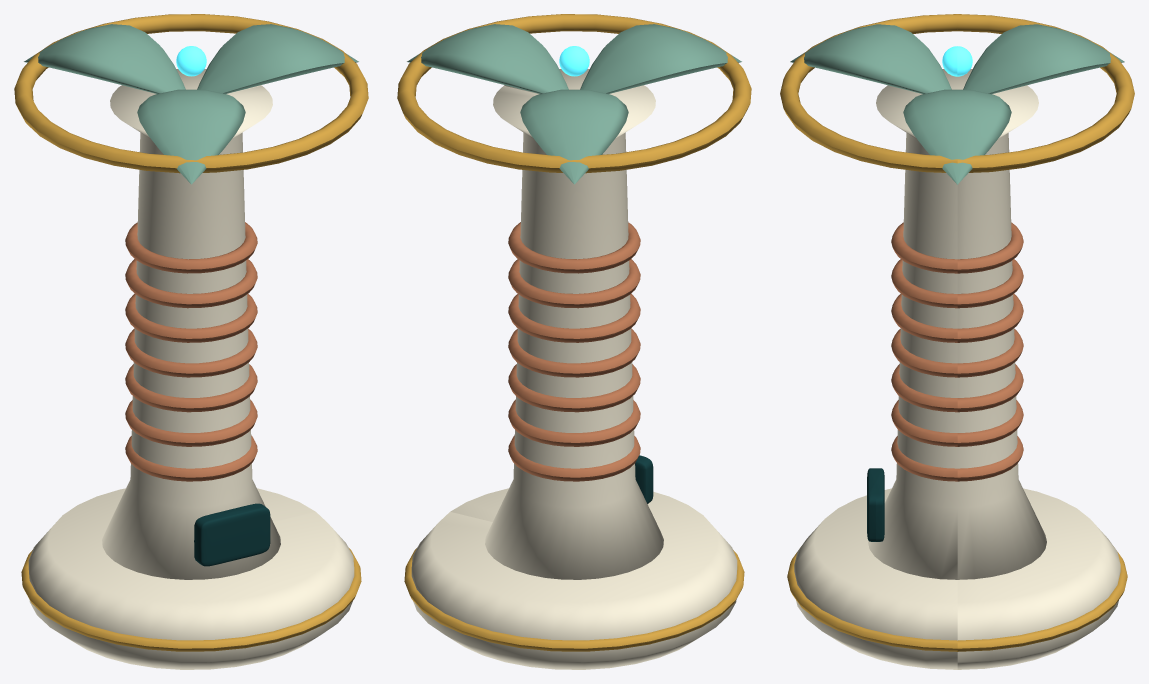
The model's file is relay.glb.
3 views of the same model, side by side, from view 1: azimuth 30°, elevation 25°; view 2: azimuth 150°, elevation 25°; view 3: azimuth 270°, elevation 25° (orthographic).
Visible parts, largest first — view 1: relay, relay-vanes, status-light; view 2: relay, relay-vanes, status-light; view 3: relay, relay-vanes, status-light.
Boxes of the visible parts, left/top/right/bottom form: relay: left=14, top=14, right=368, bottom=669; relay-vanes: left=24, top=24, right=358, bottom=184; status-light: left=176, top=46, right=206, bottom=76; relay: left=397, top=14, right=751, bottom=669; relay-vanes: left=407, top=24, right=741, bottom=184; status-light: left=559, top=46, right=589, bottom=76; relay: left=780, top=14, right=1134, bottom=669; relay-vanes: left=790, top=24, right=1124, bottom=184; status-light: left=942, top=46, right=972, bottom=76.
Bounding box in the file's own units: 0.728 × 1.22 × 0.696.
